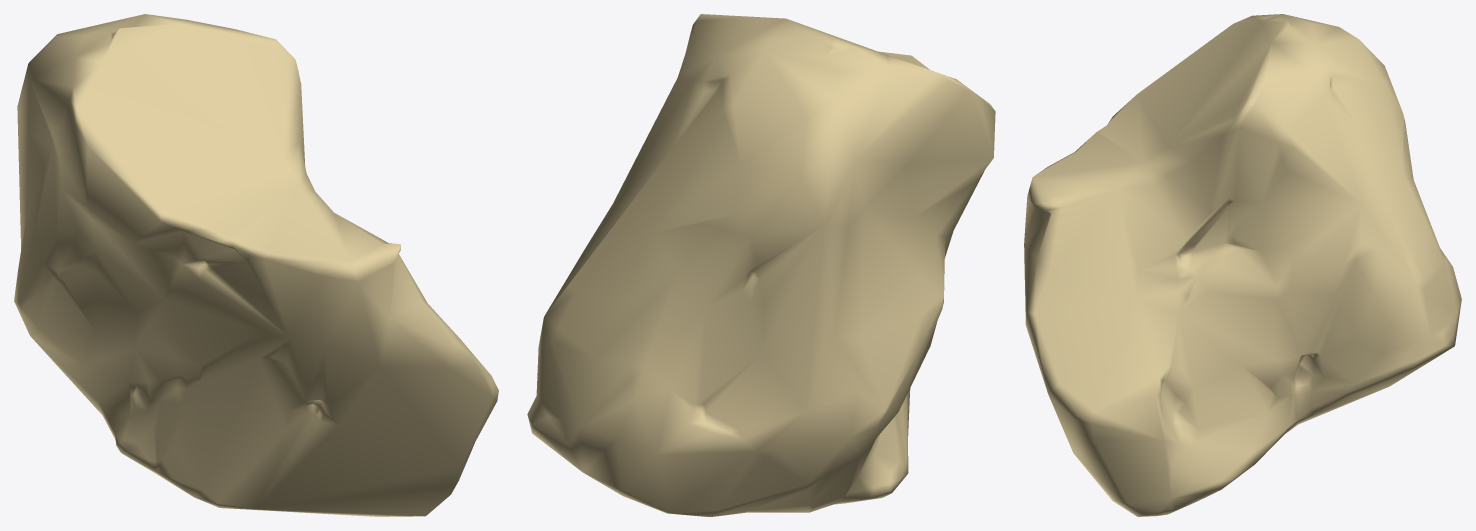
The picture shows the model from 3 angles, left to right: view 1: azimuth 30°, elevation 25°; view 2: azimuth 150°, elevation 25°; view 3: azimuth 270°, elevation 25°; orthographic projection. The views are drawn at different scales.
Parts seen in each view (by area): view 1: 左侧内侧楔骨; view 2: 左侧内侧楔骨; view 3: 左侧内侧楔骨.
Part boxes in pixels (left/top/right/bottom): 左侧内侧楔骨: left=14, top=14, right=498, bottom=516; 左侧内侧楔骨: left=527, top=14, right=995, bottom=516; 左侧内侧楔骨: left=1024, top=14, right=1461, bottom=516.
Bounding box in the file's own units: 0.037 × 0.0486 × 0.0476.
